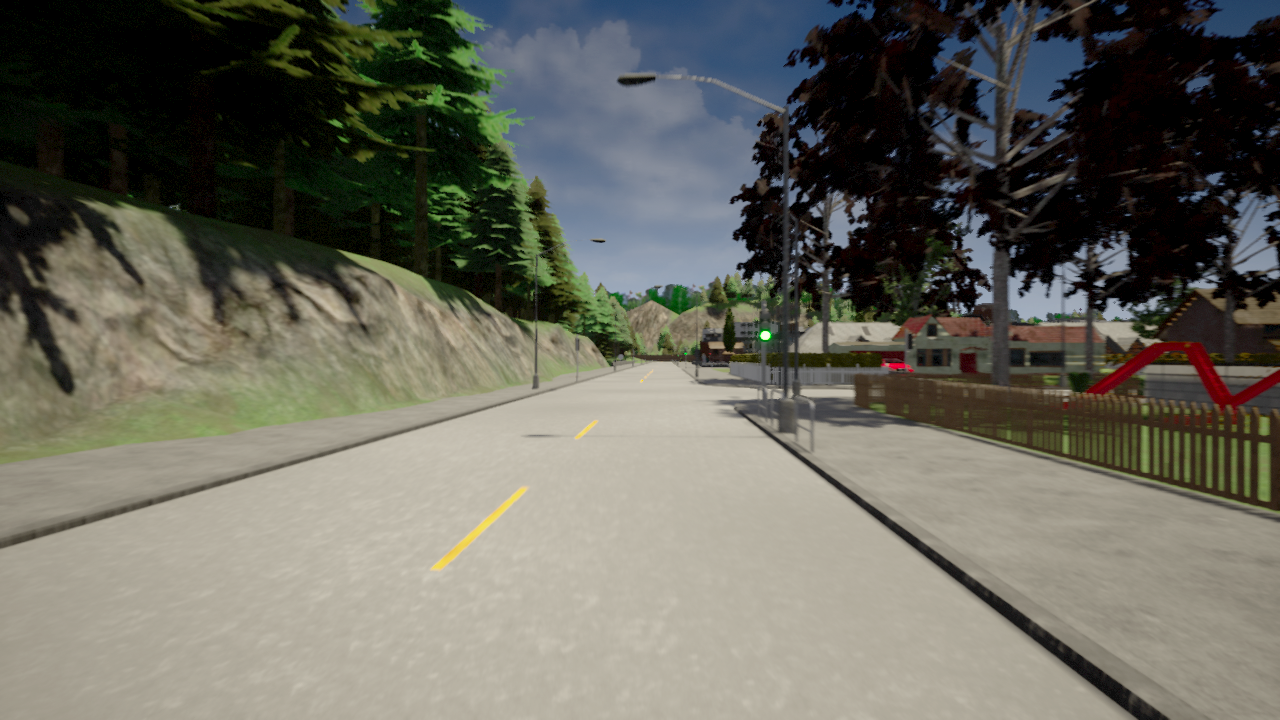green: (758, 309, 771, 342)
